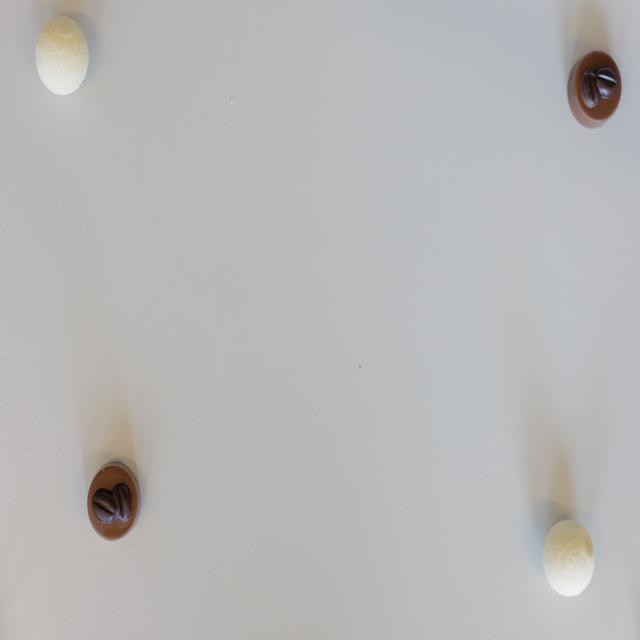Arabia: (567, 50, 622, 130), (88, 463, 140, 542)
Comtesse: (36, 15, 90, 99), (544, 520, 596, 595)
